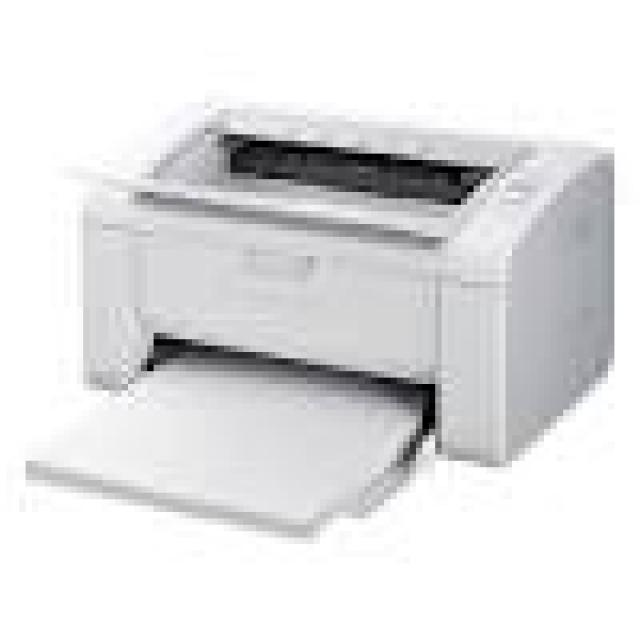printer: (18, 82, 621, 549)
